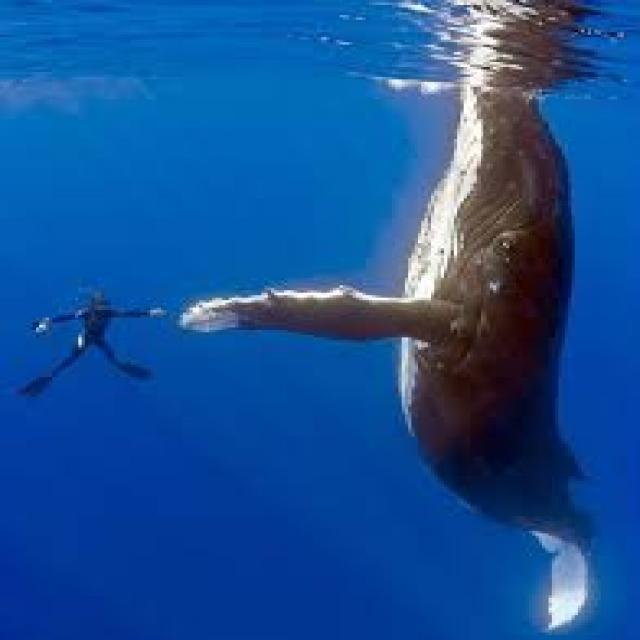blue_whale: (258, 15, 640, 640)
